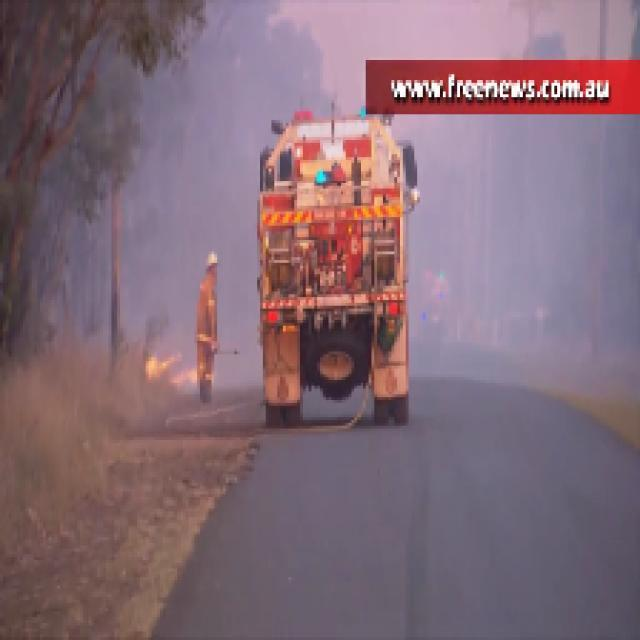Fire: (143, 348, 194, 386)
Smoke: (439, 122, 612, 332), (152, 74, 252, 240)
